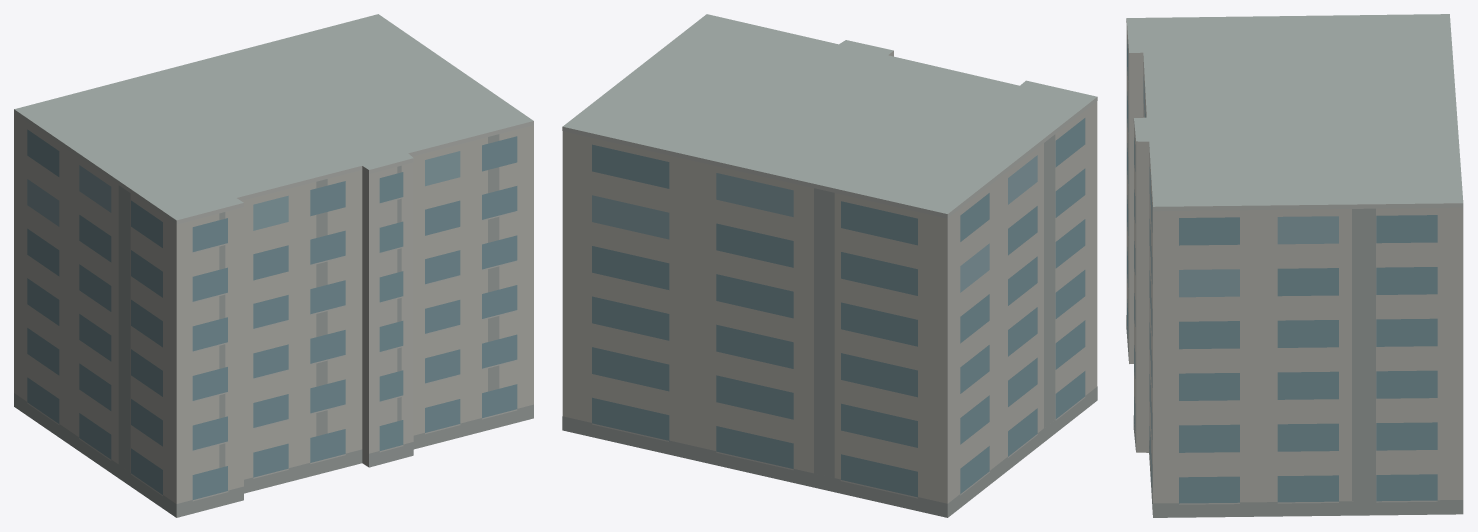
Rendered from survey-upis-32692383.glb.
3 renders of one model, left to right at view 1: azimuth 30°, elevation 25°; view 2: azimuth 150°, elevation 25°; view 3: azimuth 270°, elevation 25°, orthographic. The views are drawn at different scales.
Parts seen in each view (by area): view 1: survey-upis-32692383.tmp; view 2: survey-upis-32692383.tmp; view 3: survey-upis-32692383.tmp.
Part boxes in pixels (box(x1,y1,x2,y2)): survey-upis-32692383.tmp: box(14, 14, 533, 517); survey-upis-32692383.tmp: box(562, 14, 1097, 517); survey-upis-32692383.tmp: box(1126, 14, 1463, 517).
Bounding box in the file's own units: 22.79 × 17.14 × 16.83.
